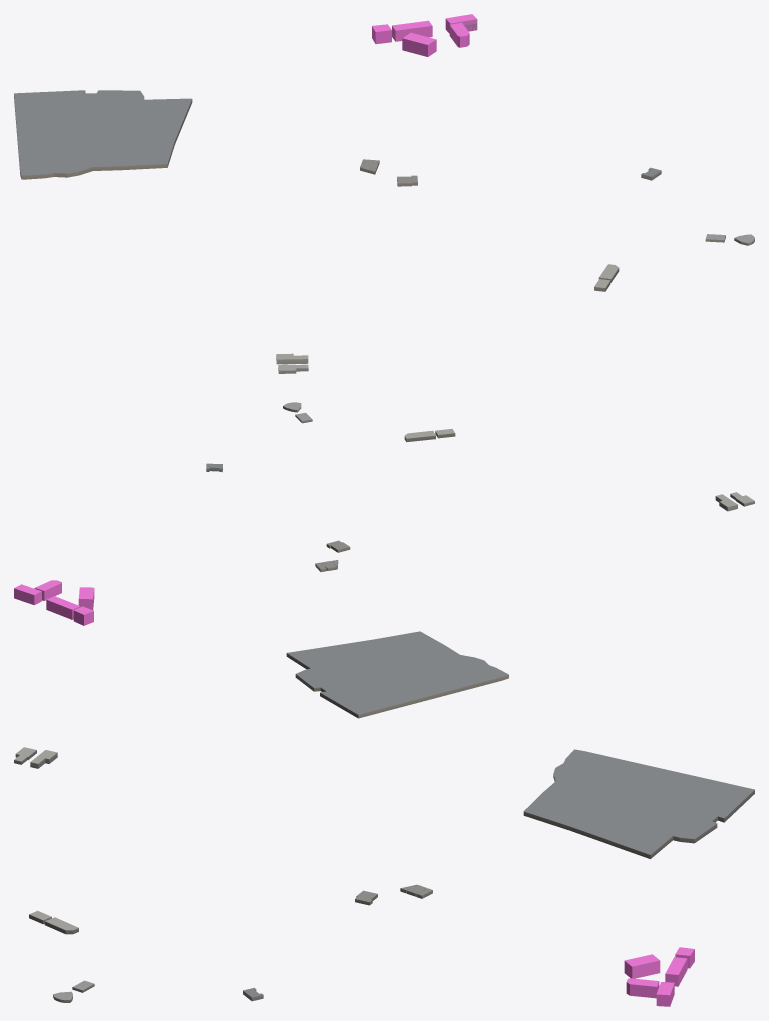
Rendered from bld_13_7.fbx.
The picture shows the model from 3 angles, top to bottom: view 1: azimuth 30°, elevation 25°; view 2: azimuth 150°, elevation 25°; view 3: azimuth 270°, elevation 25°; orthographic projection. The views are drawn at different scales.
Visible parts, largest first — view 1: bld_13_7_LOD0, bld_13_7_COL; view 2: bld_13_7_LOD0, bld_13_7_COL; view 3: bld_13_7_LOD0, bld_13_7_COL.
Part boxes in pixels (x1=…): bld_13_7_LOD0: x1=14, y1=20, x2=754, y2=373; bld_13_7_COL: x1=372, y1=14, x2=477, y2=56; bld_13_7_LOD0: x1=73, y1=402, x2=754, y2=718; bld_13_7_COL: x1=14, y1=580, x2=94, y2=625; bld_13_7_LOD0: x1=14, y1=747, x2=754, y2=1002; bld_13_7_COL: x1=624, y1=947, x2=694, y2=1006.
Size of what is drawn, in the model's own units: 1757 by 40.52 by 2145.
